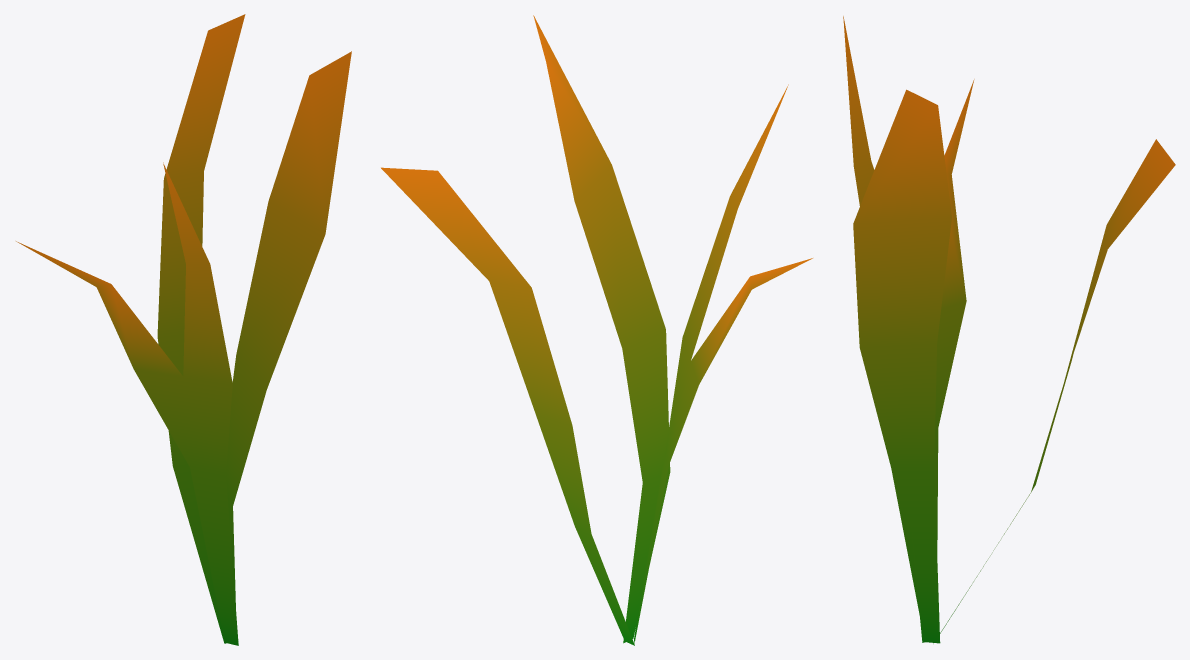
Rendered from Common Eelgrass_LOD2_Var5_sjglk.fbx.
3 renders of one model, left to right at view 1: azimuth 30°, elevation 25°; view 2: azimuth 150°, elevation 25°; view 3: azimuth 270°, elevation 25°, orthographic. The views are drawn at different scales.
Parts seen in each view (by area): view 1: _1433_Var5_LOD2; view 2: _1433_Var5_LOD2; view 3: _1433_Var5_LOD2.
Part boxes in pixels (box(x1,y1,x2,y2)): _1433_Var5_LOD2: box(16, 14, 351, 645); _1433_Var5_LOD2: box(381, 15, 812, 645); _1433_Var5_LOD2: box(843, 16, 1175, 643).
Size of the model in its own units: 58.63 by 98.72 by 48.88.
